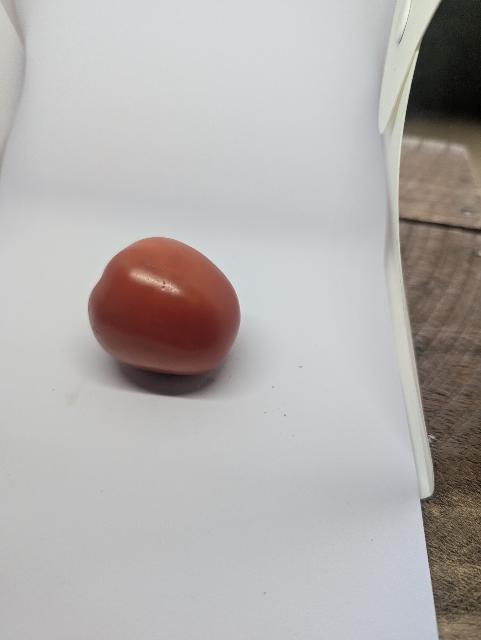red: (85, 225, 249, 388)
